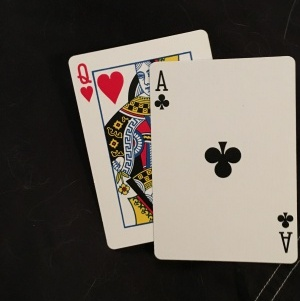card: (149, 54, 299, 263), (66, 51, 155, 250)
